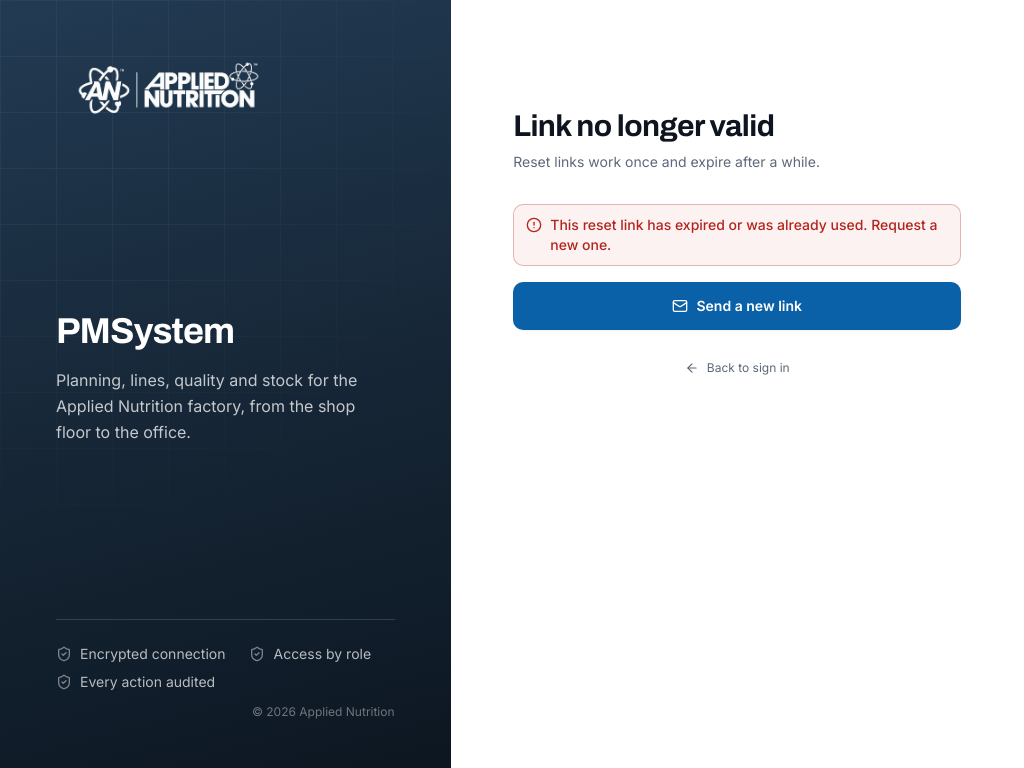
Test: ResetPassword › lets the person ask for a new link from the dead-link screen
What coordinates should you click on to do the following:
click the button "Send a new link"
I would click on:
 (737, 306)
Its box is [513,282,961,330].
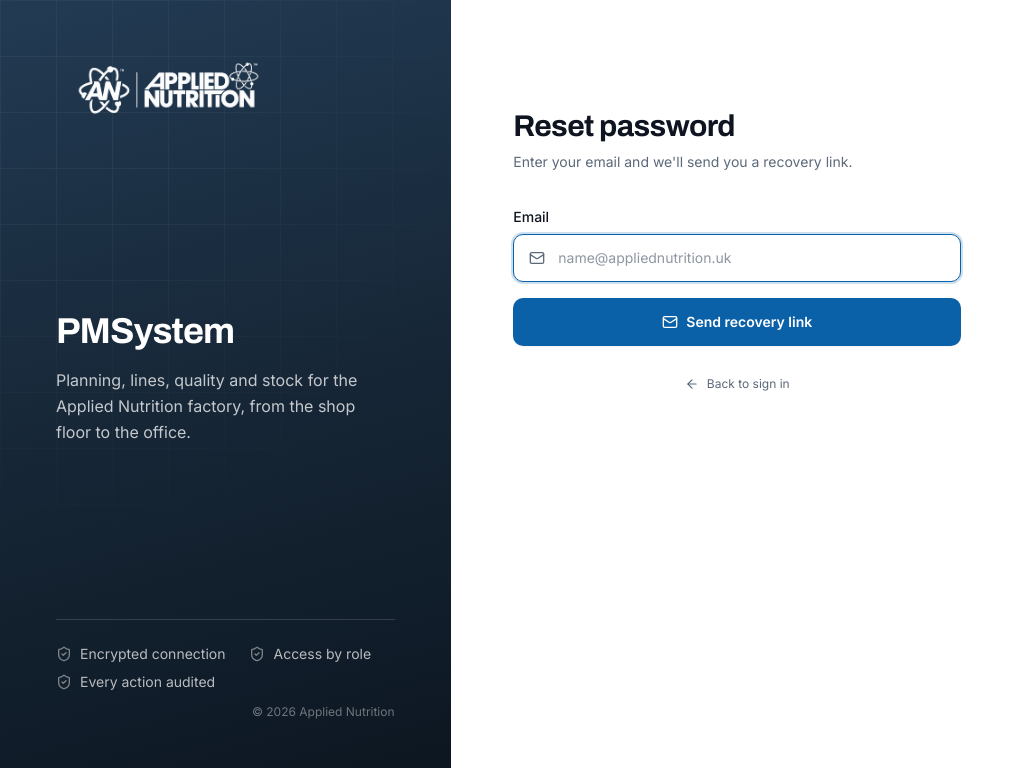
Now the field labelled "Email" is shown, box [513,234,961,282]
